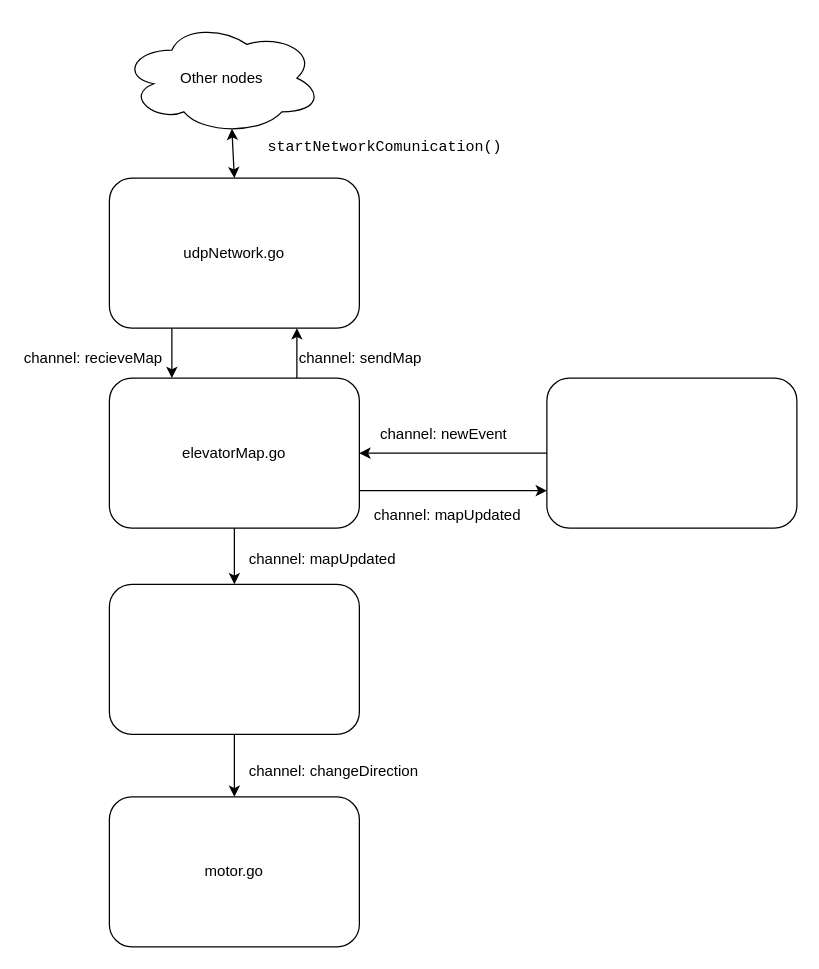
The diagram is 819 pixels wide and 969 high, and some of its shapes have lost their labels. Each missing label, with the box of its shape:
localIO.go: (546, 377, 797, 528)
taskHandler.go: (108, 583, 359, 734)
